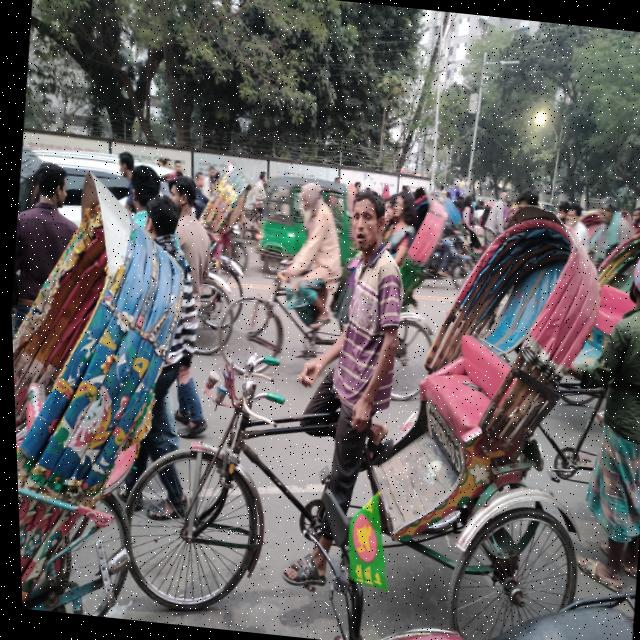rikshaw: (118, 152, 612, 640)
